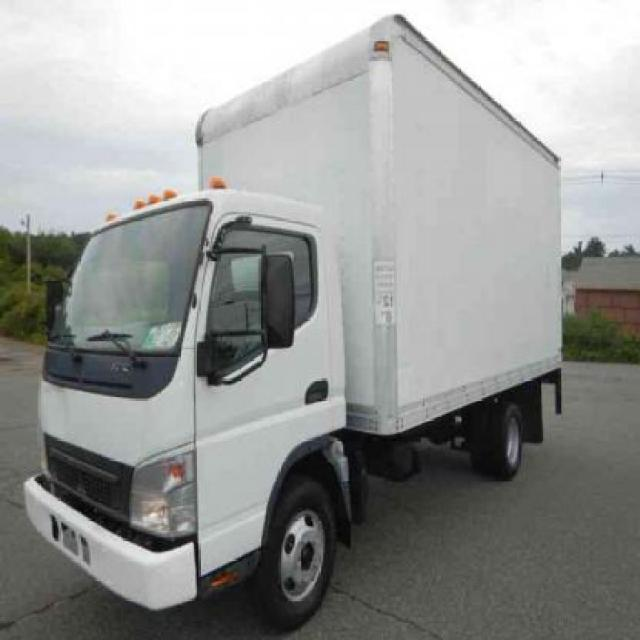truck: (21, 15, 564, 619)
